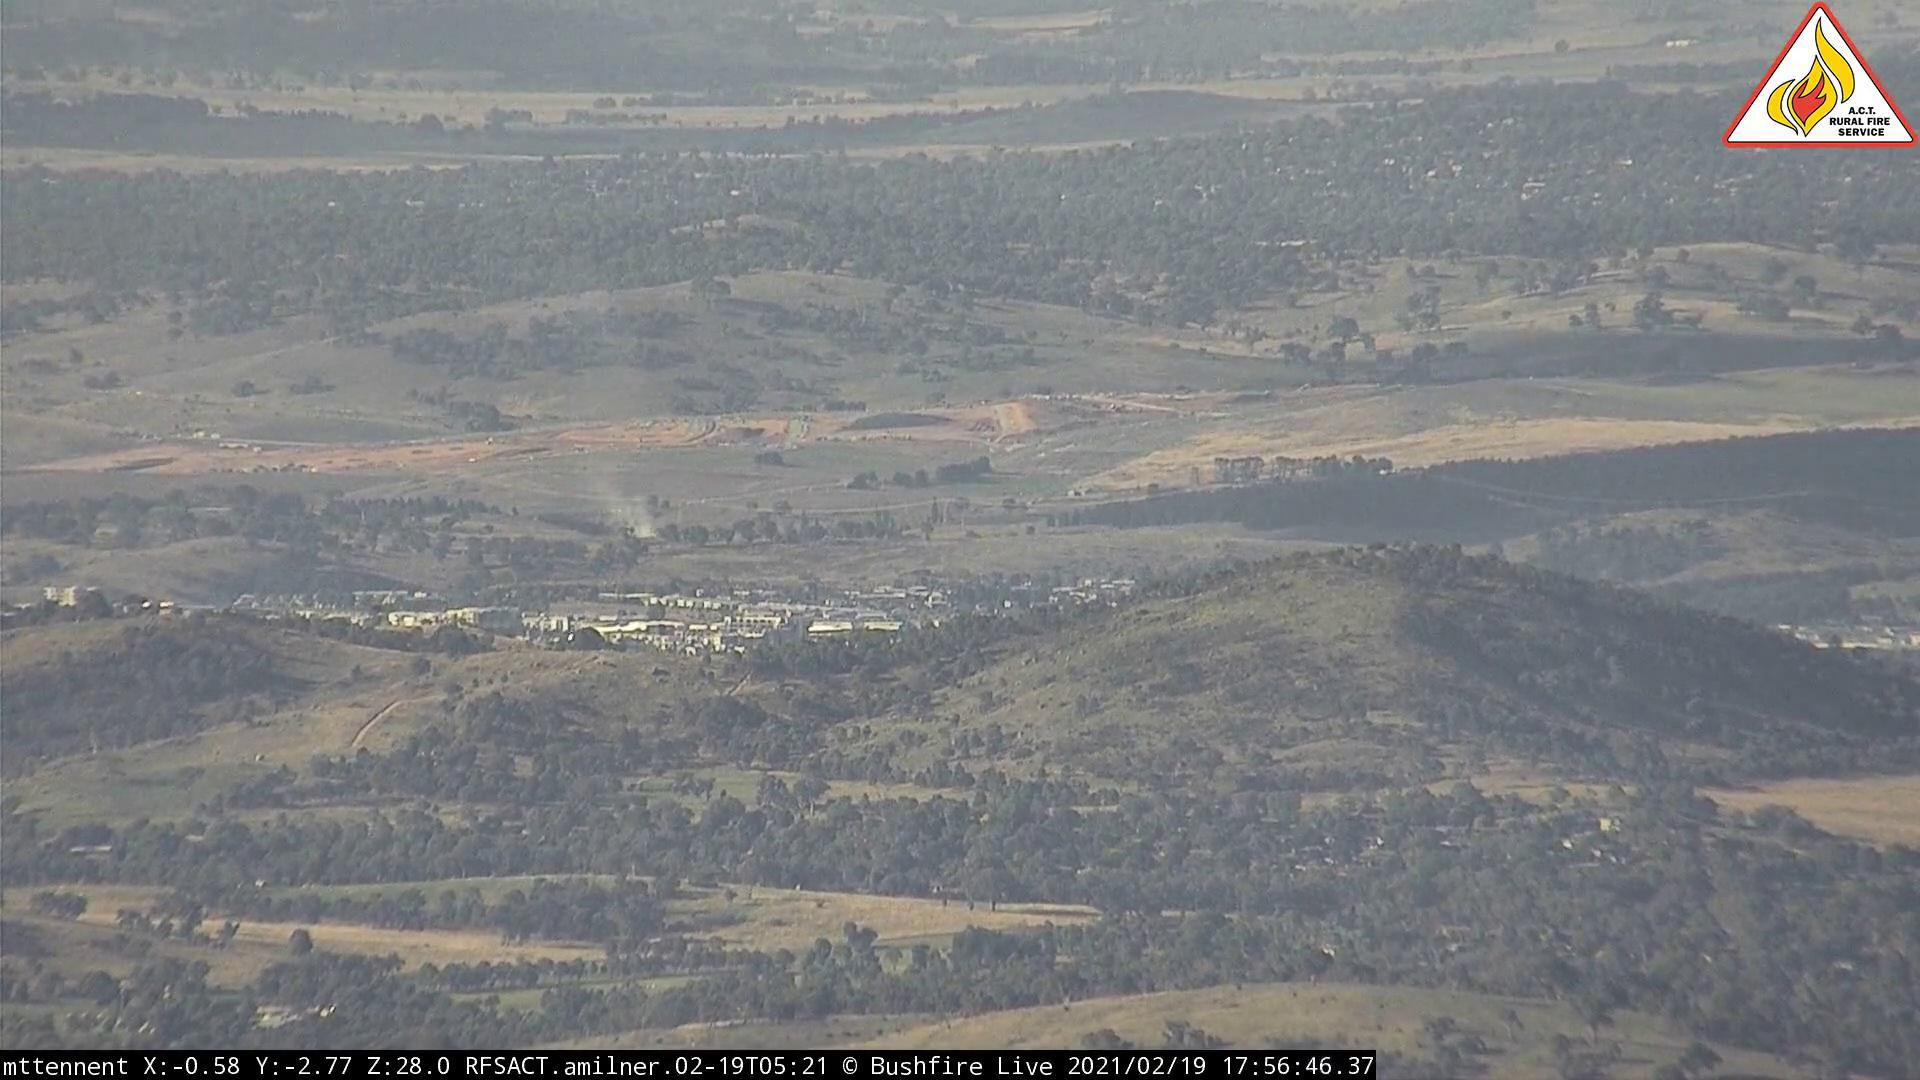Smoke: (592, 489, 676, 546)
